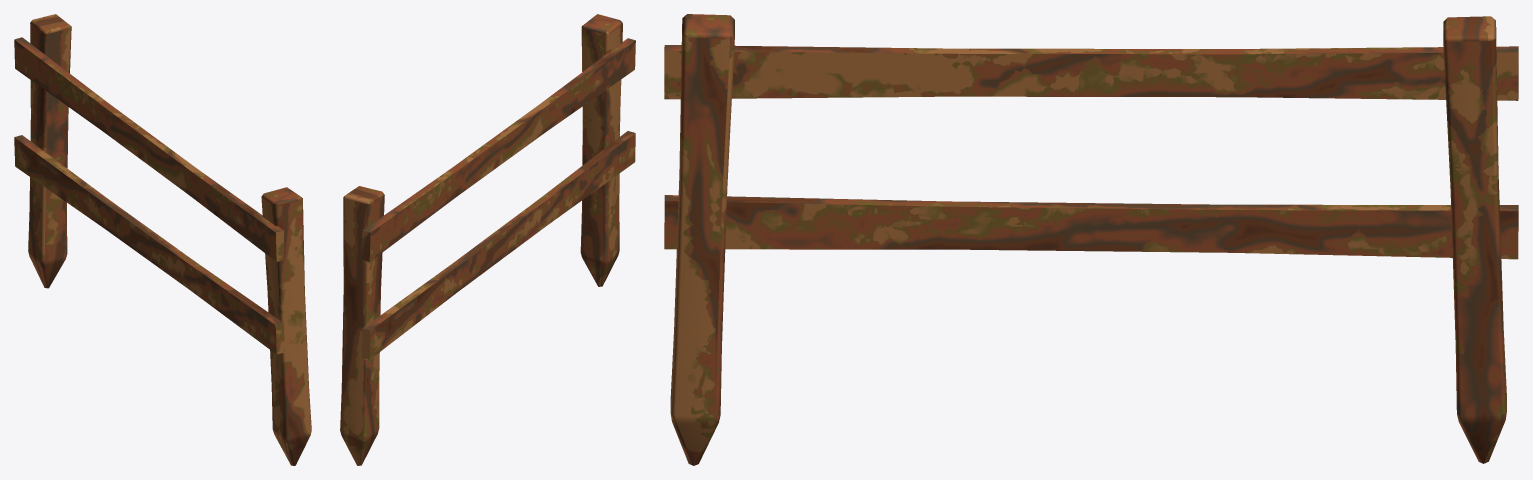
Rendered from fence_a.fbx.
The picture shows the model from 3 angles, left to right: view 1: azimuth 30°, elevation 25°; view 2: azimuth 150°, elevation 25°; view 3: azimuth 270°, elevation 25°; orthographic projection. The views are drawn at different scales.
Visible parts, largest first — view 1: fence_a; view 2: fence_a; view 3: fence_a.
Part boxes in pixels (x1,y1,x2,y2): fence_a: (14,14,311,465); fence_a: (340,14,635,465); fence_a: (664,14,1518,465).
Bounding box in the file's own units: 19.41 × 127 × 225.
